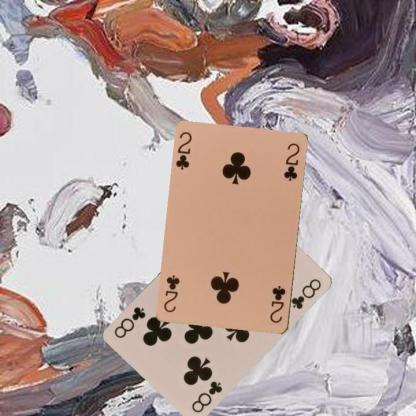2c: (173, 130, 194, 172), (268, 283, 288, 325)
8c: (189, 377, 224, 414)
